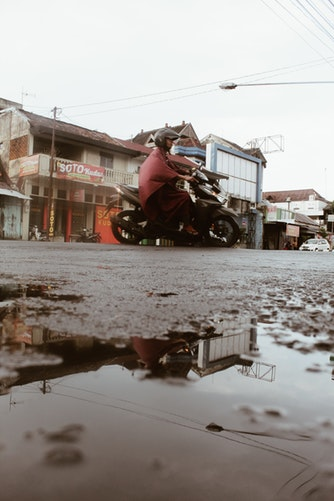helmet: (153, 126, 176, 149)
